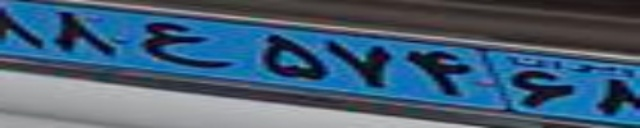4: (405, 48, 472, 97)
5: (257, 33, 327, 79)
6: (509, 68, 574, 109)
7: (325, 39, 398, 87)
8: (50, 10, 114, 57), (0, 6, 45, 49), (592, 77, 638, 118)
ain: (136, 20, 232, 69)
